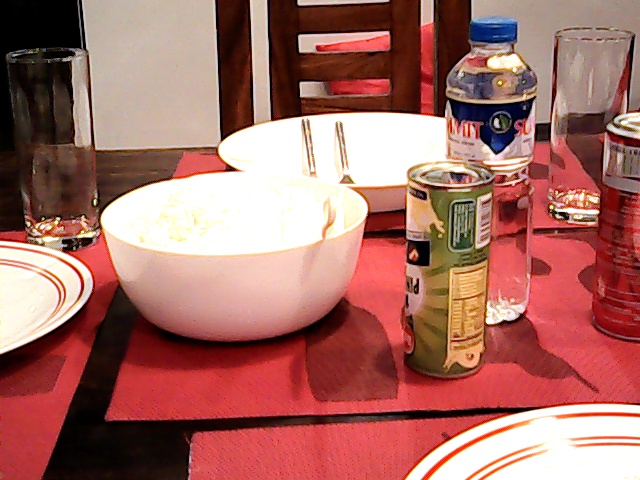Cola: (588, 107, 640, 346)
Pine Juice: (400, 154, 498, 381)
Summit Water: (447, 30, 539, 161)
